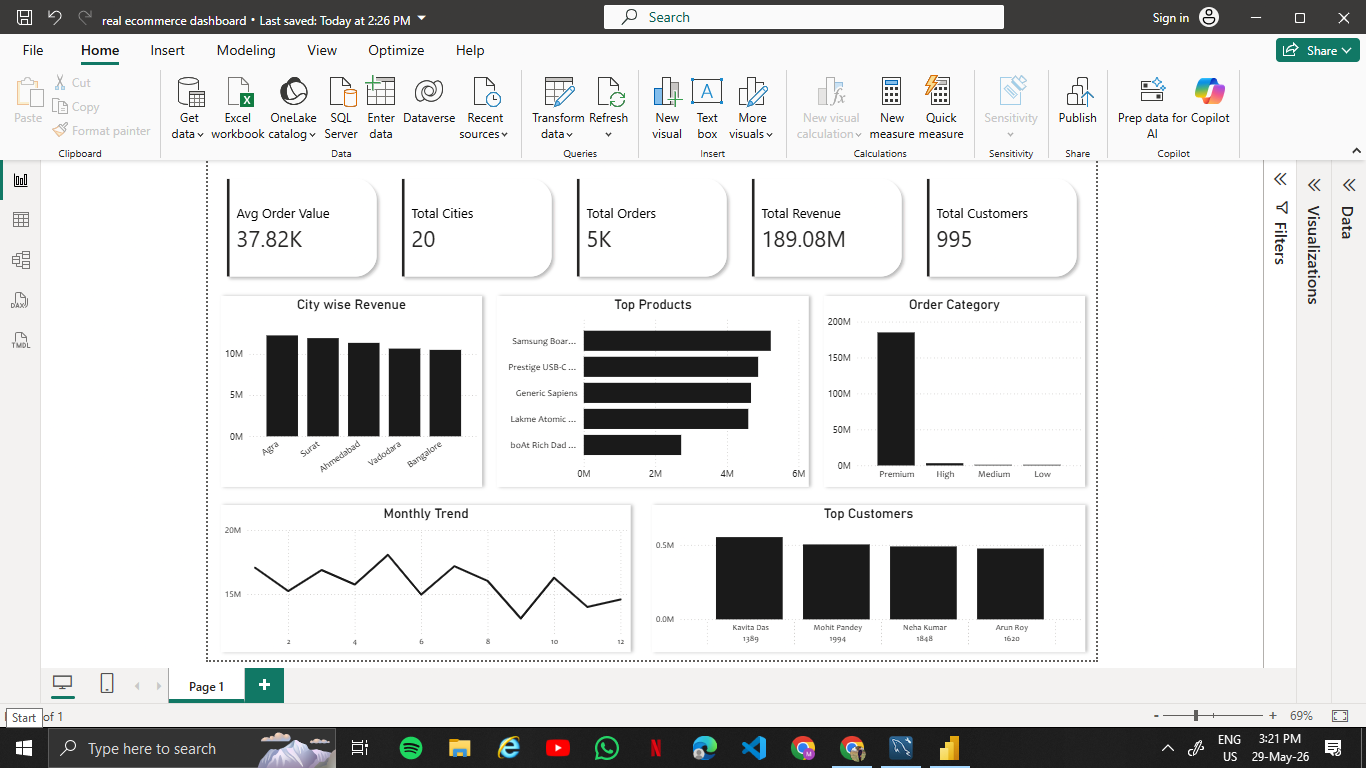

This screenshot's page, from the dashboard's own definition file:
{"tool":"powerbi","page":{"name":"Page 1","canvas":[1280,720],"ordinal":0},"visuals":[{"type":"cardVisual","fields":{"Data":["Avg(business_overview.avg_order_value)","Sum(business_overview.TOTAL_CITES)","Sum(business_overview.total_orders)","Sum(business_overview.total_revenue)","Sum(business_overview.unique_customers)"]},"box":[0,0,1280.2,195.8],"z":0},{"type":"columnChart","title":"City wise Revenue","fields":{"Category":["city_analysis.city"],"Y":["Sum(city_analysis.TOTAL_REVENUE)"]},"box":[18.7,195.8,375.8,275],"z":1},{"type":"lineChart","title":"Monthly Trend","fields":{"Category":["monthly_trend.month"],"Y":["Sum(monthly_trend.monthly_revenue)"]},"box":[18.7,496.8,590.4,211.7],"z":3},{"type":"columnChart","title":"Order Category","fields":{"Category":["order_category.order_category"],"Y":["Sum(order_category.revenue)"]},"box":[887,195.8,375.8,275],"z":4},{"type":"columnChart","title":"Top Customers","fields":{"Category":["top_customers.customer_id","top_customers.name"],"Y":["Sum(top_customers.total_spent)"]},"box":[639.4,496.8,623.5,211.7],"z":5},{"type":"clusteredBarChart","title":"Top Products","fields":{"Category":["top_products.product_name"],"Y":["Sum(top_products.revenue)"]},"box":[416.2,195.8,449.3,275],"z":6}]}

Visuals, with their boxes on the page's 1280x720 design canvas (x1, y1, x2, y2). These are canvas units, not pixel positions in the 1366x768 screenshot, which may show the page scaled, cropped or inside an application window:
cardVisual - Avg(business_overview.avg_order_value) x Sum(business_overview.TOTAL_CITES): locate(0, 0, 1280, 196)
"City wise Revenue" columnChart: locate(19, 196, 394, 471)
"Monthly Trend" lineChart: locate(19, 497, 609, 708)
"Order Category" columnChart: locate(887, 196, 1263, 471)
"Top Customers" columnChart: locate(639, 497, 1263, 708)
"Top Products" clusteredBarChart: locate(416, 196, 866, 471)
